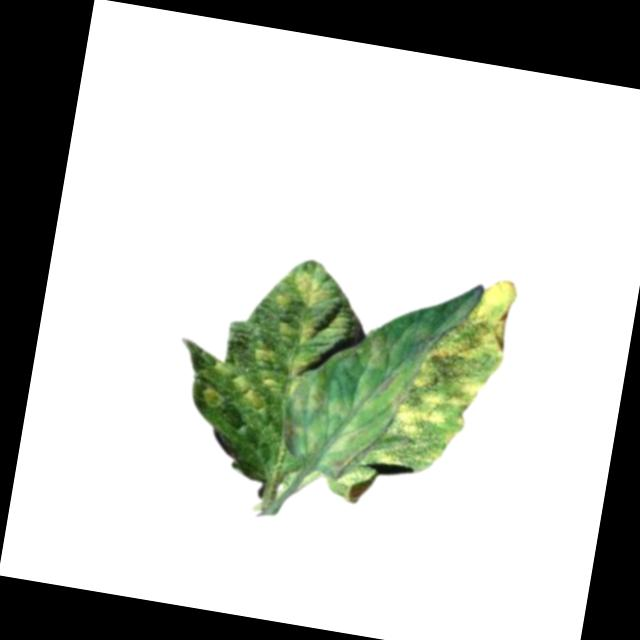Leaf_Mold: (373, 265, 521, 483), (277, 313, 411, 483), (199, 339, 289, 421), (276, 263, 336, 318), (276, 314, 322, 350)
